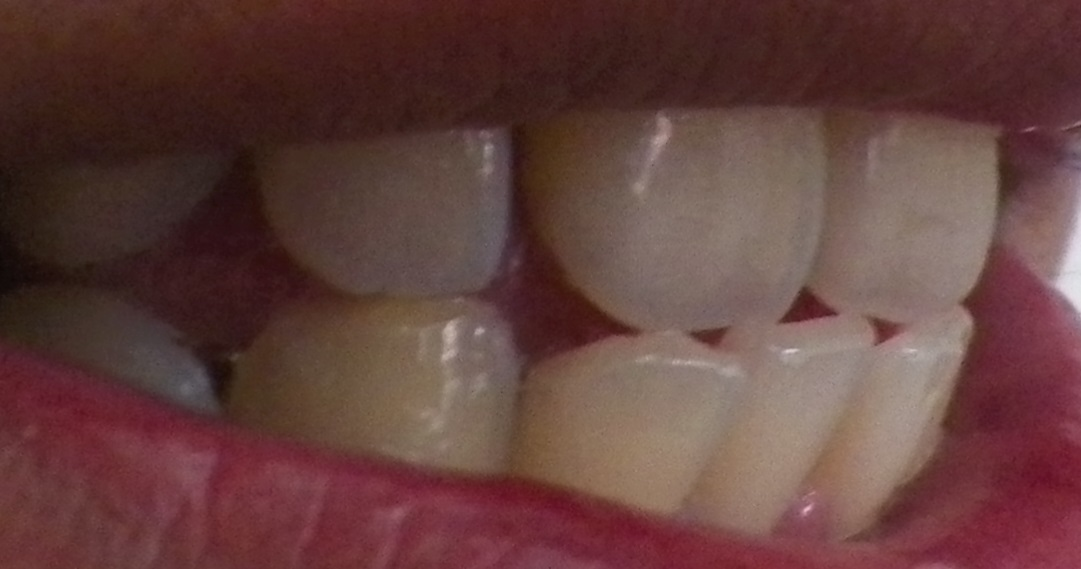boca: (35, 120, 1008, 520)
